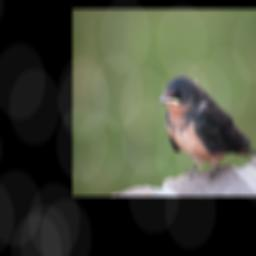Swallow: (157, 74, 256, 182)
